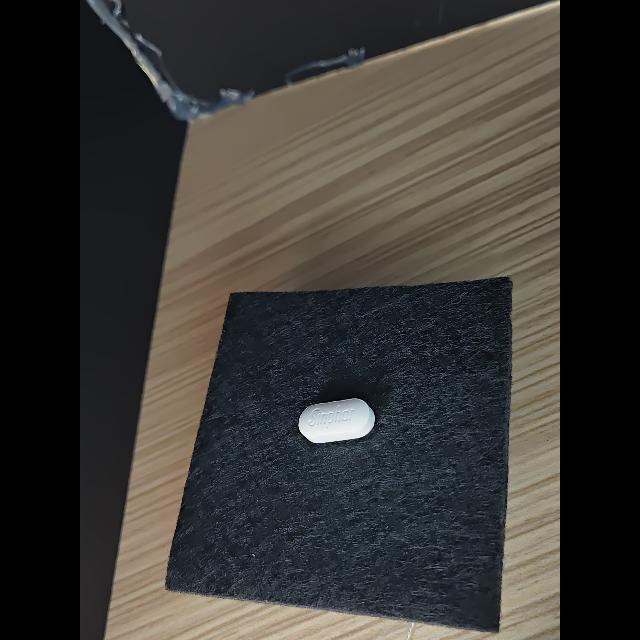Intact Pill: (299, 398, 375, 443)
